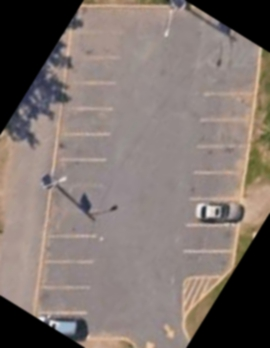parkingspot: (31, 2, 134, 342), (172, 88, 260, 282)
